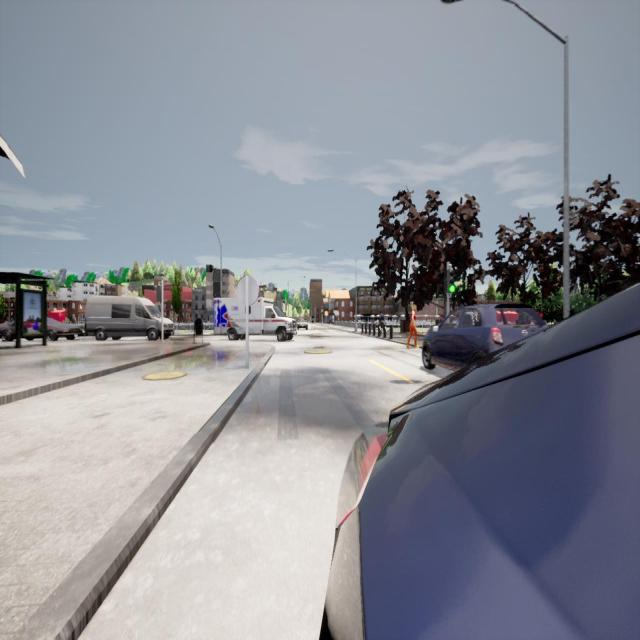Pedestrian: (406, 304, 418, 348)
Traffic_Signs: (235, 274, 259, 308)
Vehicle: (318, 284, 640, 638), (422, 298, 549, 374), (82, 295, 174, 345), (215, 303, 301, 340), (6, 306, 80, 341), (296, 320, 310, 330)
traffic_light: (447, 268, 455, 292), (156, 285, 162, 302)
